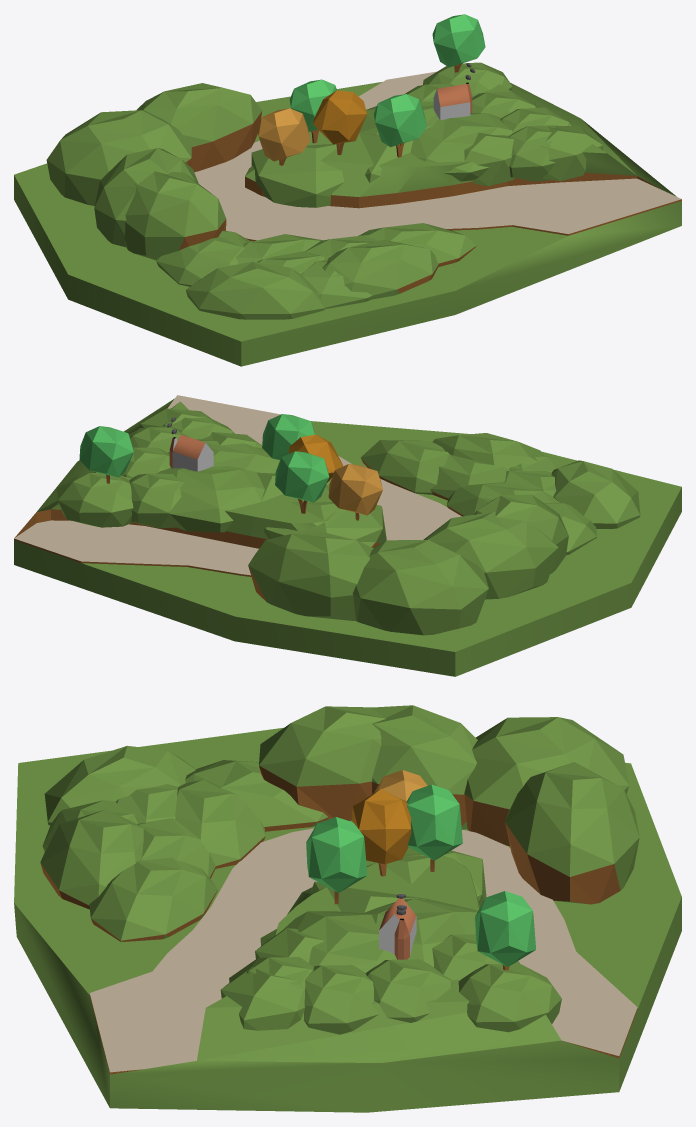
The model's file is Road_1229.gltf.
3 views of the same model, one above another, from view 1: azimuth 30°, elevation 25°; view 2: azimuth 150°, elevation 25°; view 3: azimuth 270°, elevation 25° (orthographic). The views are drawn at different scales.
Visible parts, largest first — view 1: node-0; view 2: node-0; view 3: node-0.
Part boxes in pixels (x1,y1,x2,y2): node-0: (14,14,681,366); node-0: (14,395,681,676); node-0: (14,705,681,1112).
Bounding box in the file's own units: 225 × 51.07 × 178.
